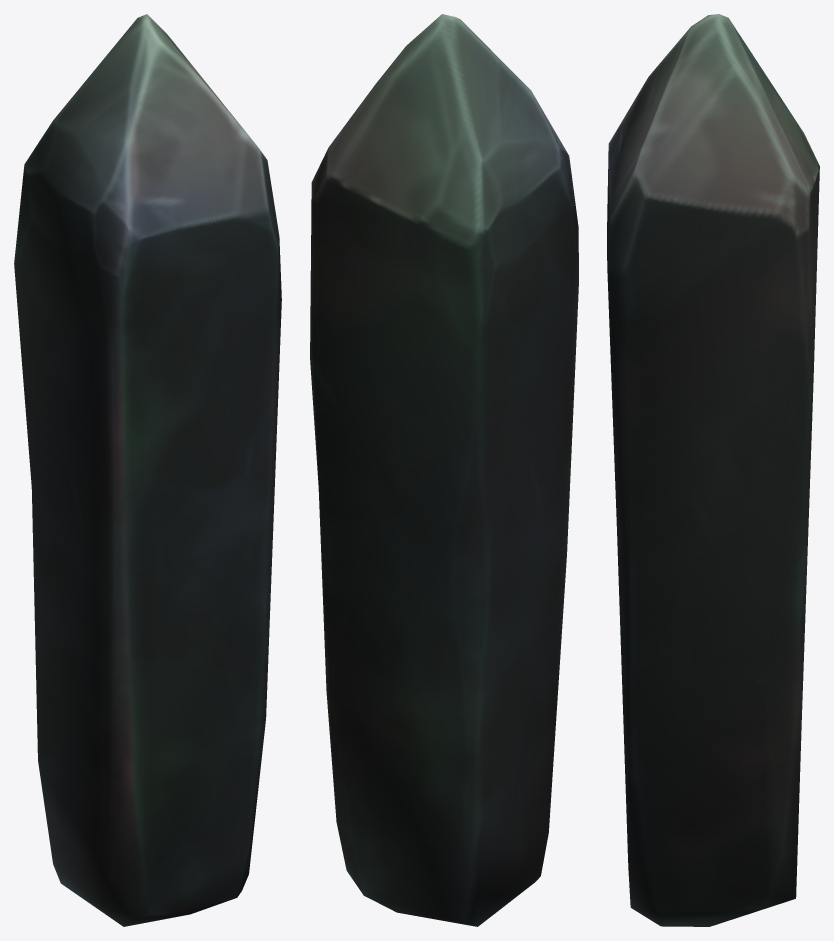
Rendered from SM_Gem_BlackQuartz_001.fbx.
3 renders of one model, left to right at view 1: azimuth 30°, elevation 25°; view 2: azimuth 150°, elevation 25°; view 3: azimuth 270°, elevation 25°, orthographic.
Parts seen in each view (by area): view 1: SM_Gem_BlackQuartz_001; view 2: SM_Gem_BlackQuartz_001; view 3: SM_Gem_BlackQuartz_001.
Boxes of the visible parts, bbox=[...] form: SM_Gem_BlackQuartz_001: bbox=[14, 14, 281, 926]; SM_Gem_BlackQuartz_001: bbox=[310, 14, 578, 926]; SM_Gem_BlackQuartz_001: bbox=[607, 14, 819, 926].
Size of the model in its own units: 16.16 by 73.94 by 16.16.
